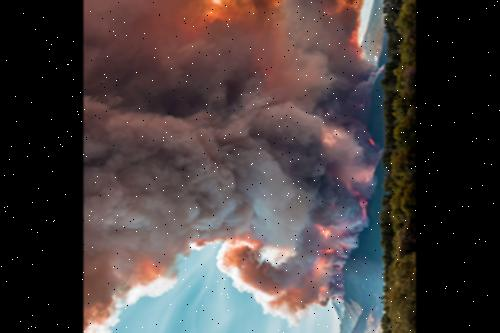fire: (358, 122, 386, 237)
